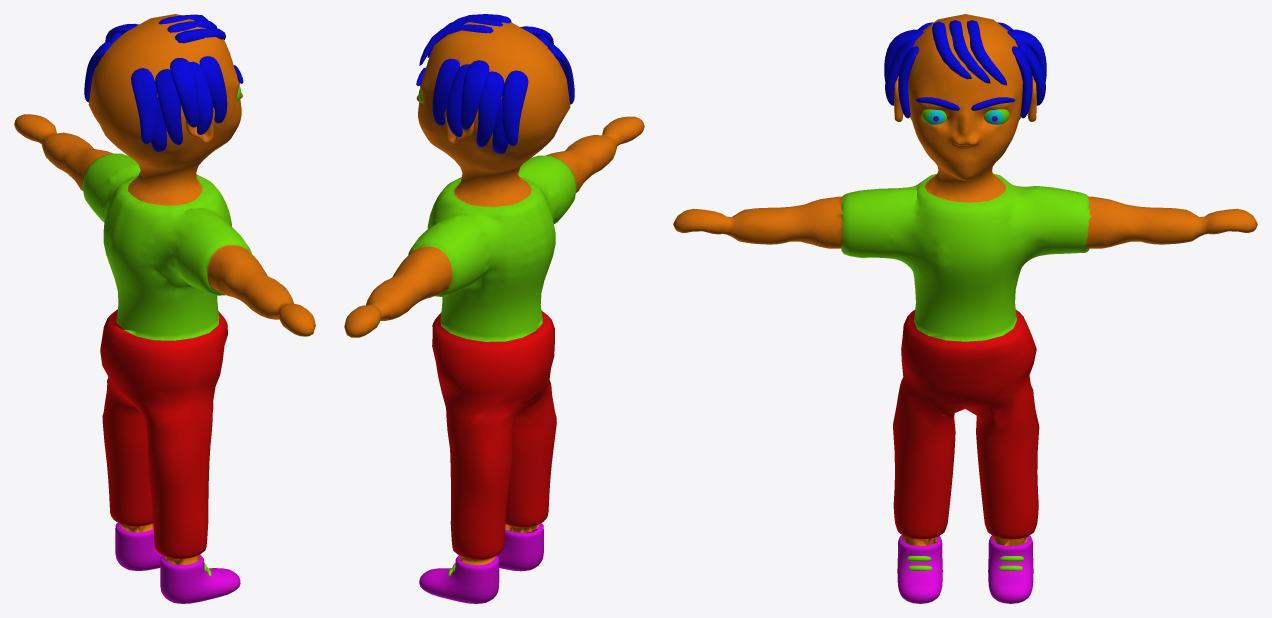
Rendered from ded_pers.fbx.
3 views of the same model, side by side, from view 1: azimuth 30°, elevation 25°; view 2: azimuth 150°, elevation 25°; view 3: azimuth 270°, elevation 25° (orthographic).
Parts seen in each view (by area): view 1: Cube.013; view 2: Cube.013; view 3: Cube.013.
Part boxes in pixels (x1,y1,x2,y2): Cube.013: [14, 14, 315, 603]; Cube.013: [344, 14, 644, 603]; Cube.013: [673, 14, 1257, 603].
Bounding box in the file's own units: 176 × 675 × 631.
